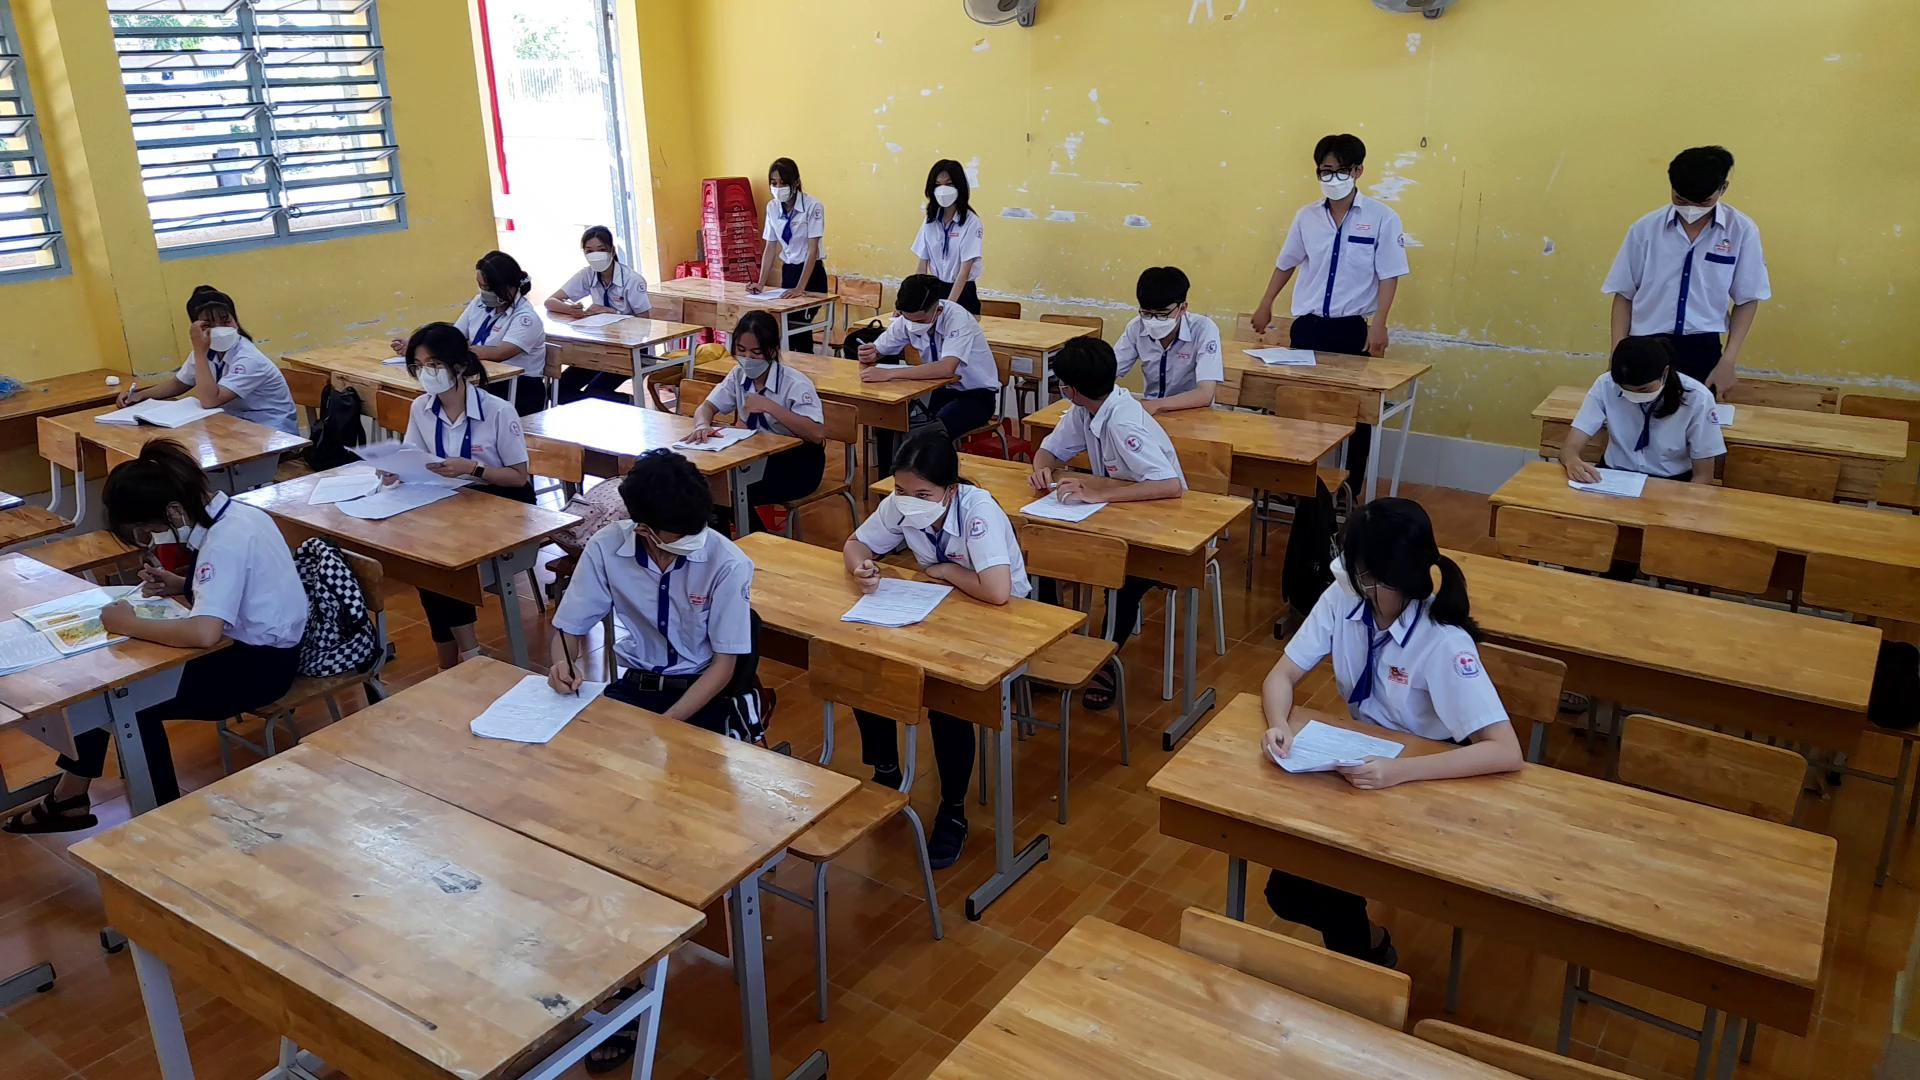Bend Over The Desk: (88, 429, 214, 545), (1597, 322, 1673, 414)
Hand Under Table: (690, 545, 754, 735), (1673, 385, 1720, 491)
Look Around: (1319, 488, 1448, 611), (1033, 331, 1121, 414)
Normal: (836, 421, 1029, 605), (360, 320, 531, 492), (676, 298, 825, 448), (845, 261, 996, 386), (1117, 258, 1226, 407), (542, 212, 655, 320), (465, 233, 547, 380)
Stand Up: (1244, 121, 1408, 357), (1604, 135, 1768, 340), (737, 150, 832, 310), (894, 146, 986, 274)
Wave: (179, 314, 248, 411)
